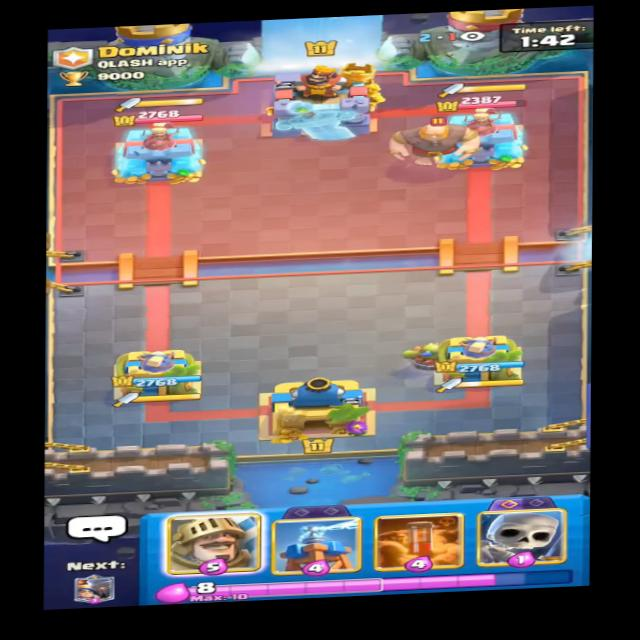giant: (385, 113, 481, 168)
